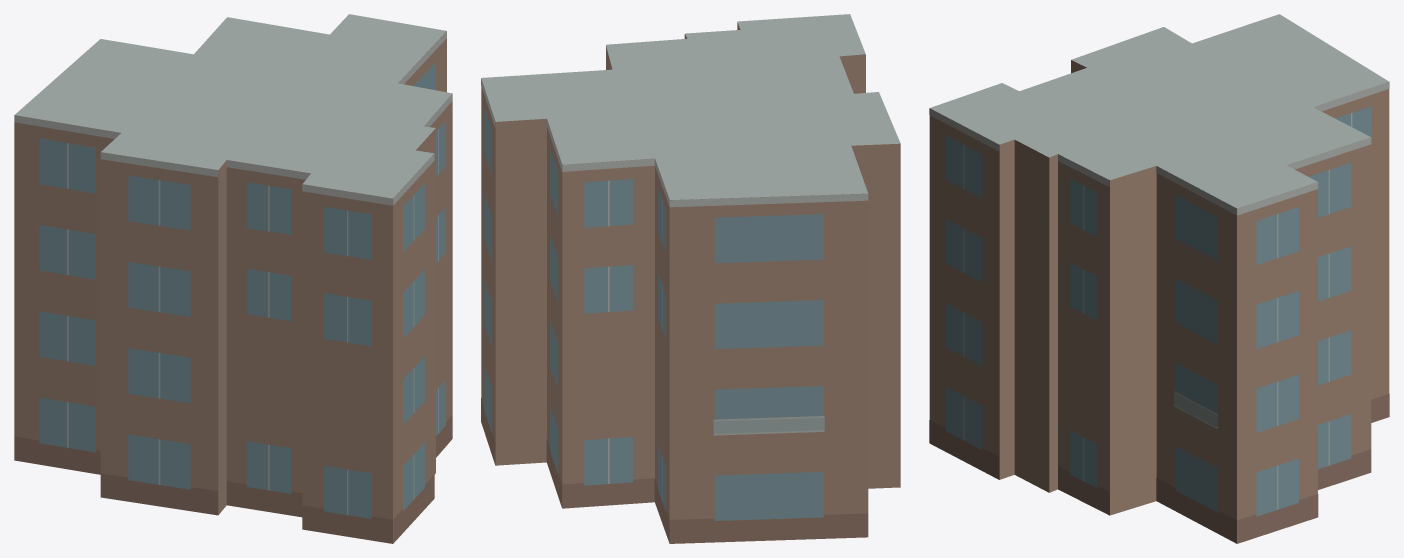
File: survey-upis-32632033.glb
The picture shows the model from 3 angles, left to right: view 1: azimuth 30°, elevation 25°; view 2: azimuth 150°, elevation 25°; view 3: azimuth 270°, elevation 25°; orthographic projection. The views are drawn at different scales.
Visible parts, largest first — view 1: survey-upis-32632033.tmp; view 2: survey-upis-32632033.tmp; view 3: survey-upis-32632033.tmp.
Part boxes in pixels (box(x1,y1,x2,y2)): survey-upis-32632033.tmp: box(14, 14, 452, 543); survey-upis-32632033.tmp: box(481, 14, 900, 543); survey-upis-32632033.tmp: box(929, 14, 1389, 543).
Bounding box in the file's own units: 14.57 × 11.7 × 14.55.
